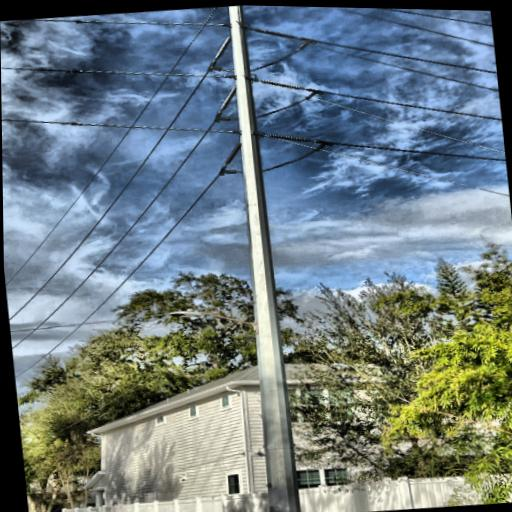pole: (212, 5, 305, 512)
